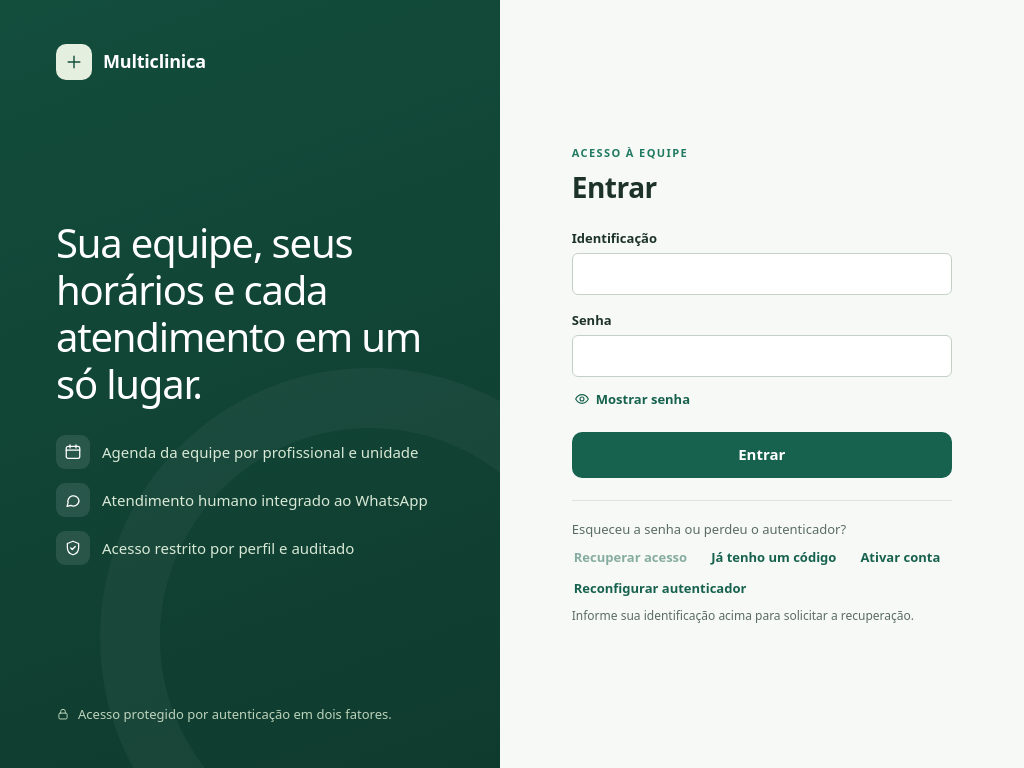
Scenario: exibe login acessível e falha sem revelar a resposta do servidor
Step 1. Type "operator" into the field labelled "Identificação" → x=762, y=274, box [572,253,952,295]
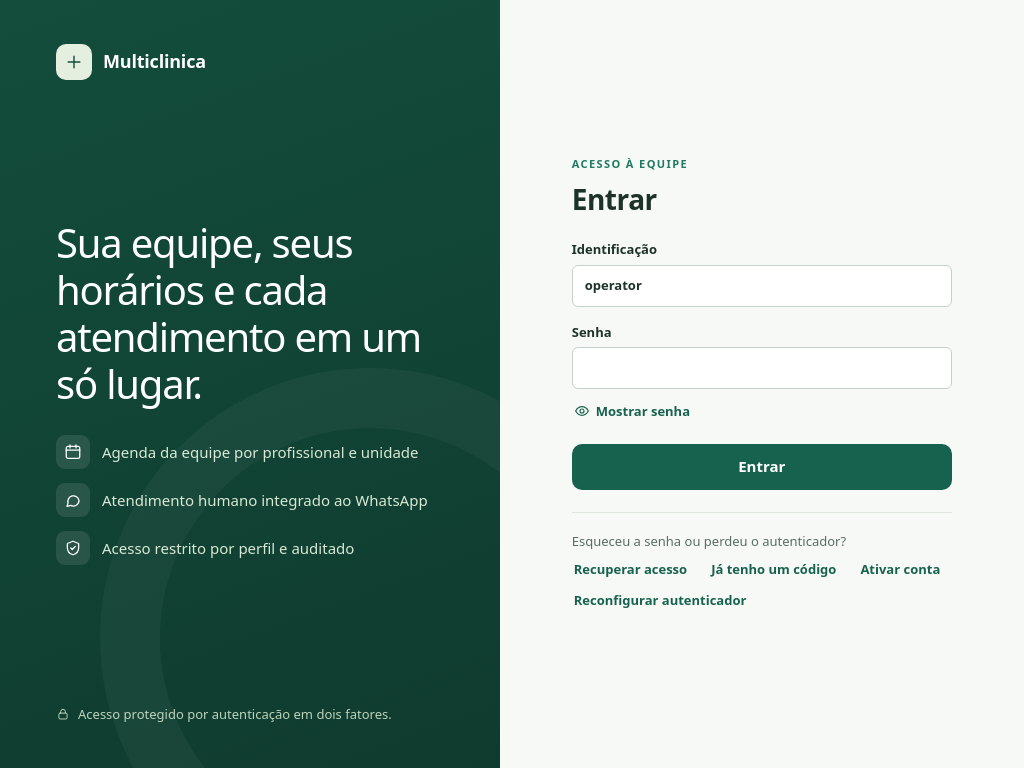
Step 2. Type "incorrect" into the password field labelled "Senha" → x=762, y=368, box [572,347,952,389]
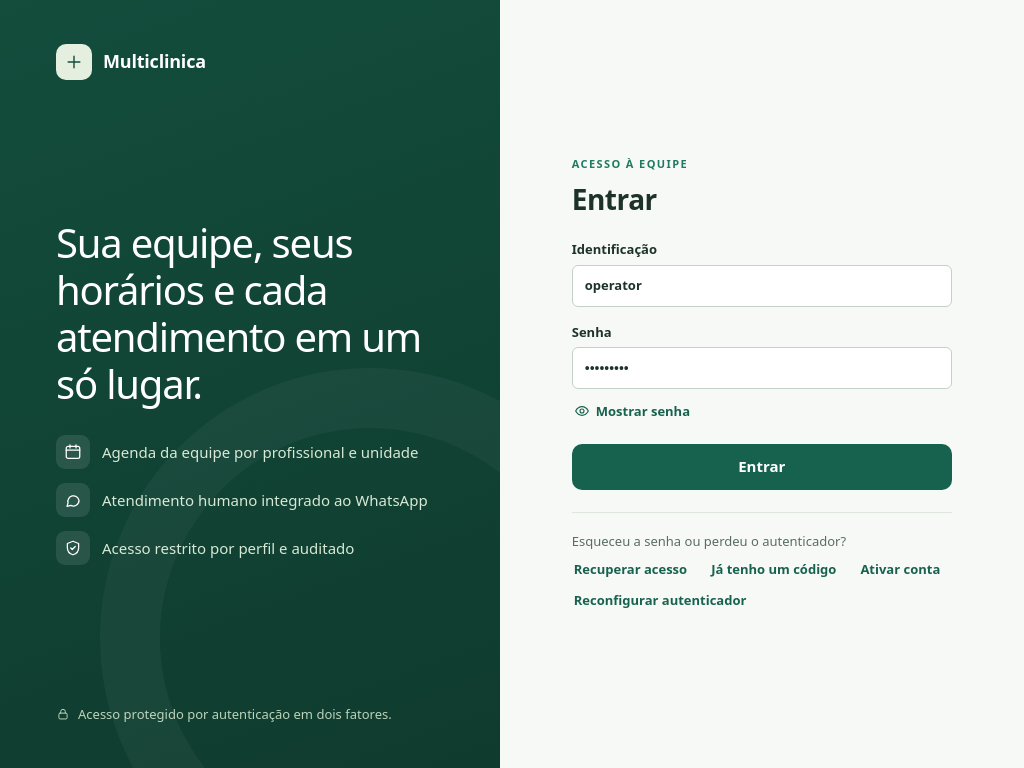
Step 3. Click the button "Entrar" → x=762, y=467, box [572,444,952,490]
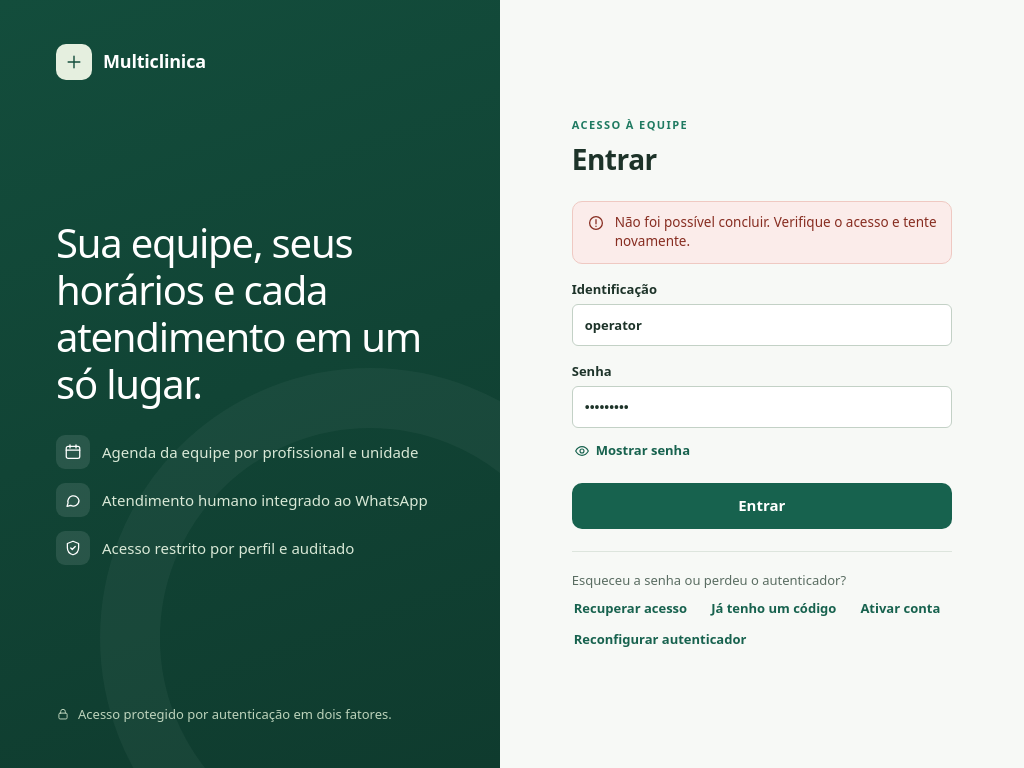
expect the message shows "Não foi possível concluir": met, box [615,213,937,250]
